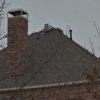Chimney: (3, 6, 40, 56)
